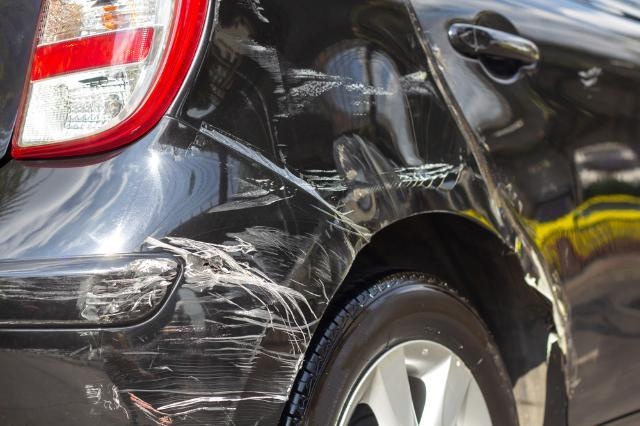scratch: (0, 176, 371, 426), (235, 0, 468, 219)
